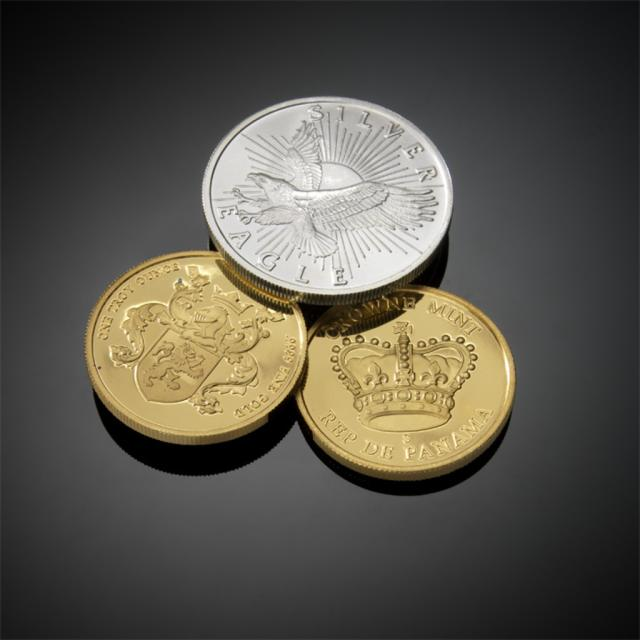Coin: (196, 97, 456, 305), (292, 281, 513, 483), (83, 250, 310, 444)
